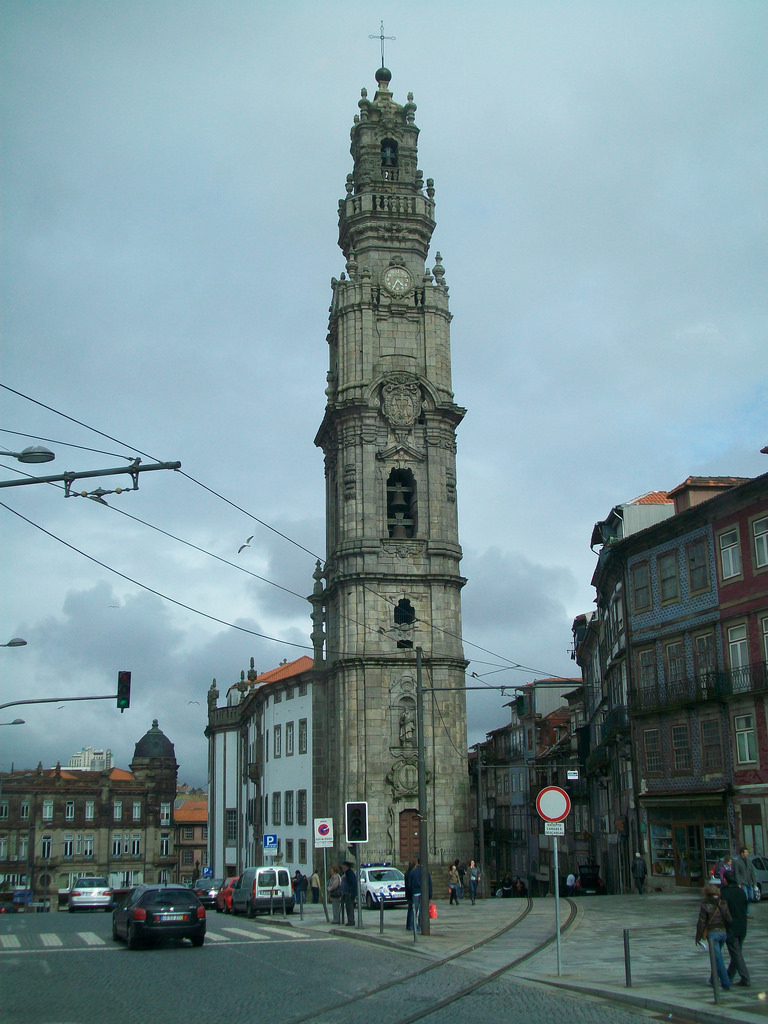clerigos: (309, 20, 476, 883)
